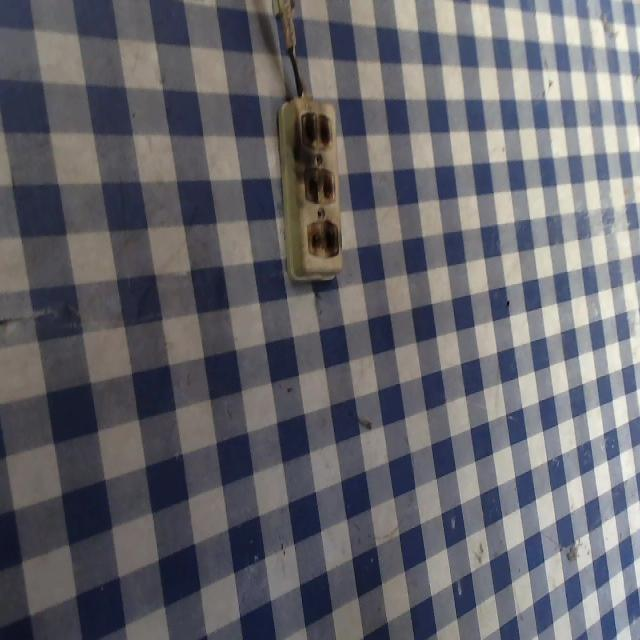-: (295, 213, 347, 268), (291, 102, 341, 158), (295, 159, 346, 208)
